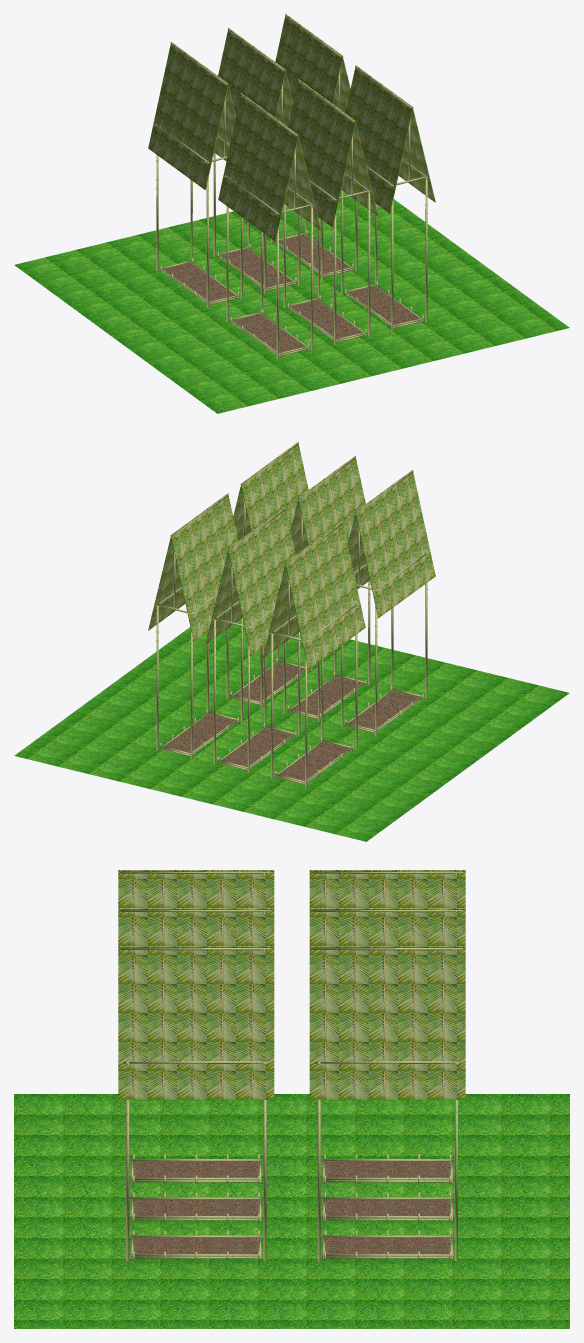
The model's file is 2Vegetable _plot.glb.
3 views of the same model, one above another, from view 1: azimuth 30°, elevation 25°; view 2: azimuth 150°, elevation 25°; view 3: azimuth 270°, elevation 25° (orthographic). The views are drawn at different scales.
Parts seen in each view (by area): view 1: Grass, Roof, Roof.003, Roof.001, Roof.002, Roof.005, Roof.004, Soil, Soil.003, Soil.002, Soil.001, BarkChips (+7 smaller); view 2: Grass, Roof.003, Roof, Roof.005, Roof.004, Roof.002, Roof.001, Soil.003, Soil, Soil.005, Soil.004, BarkChips.003 (+7 smaller); view 3: Grass, Roof.002, Roof.005, Roof, Roof.003, Roof.001, Roof.004, Soil.004, Soil.001, Soil.005, Soil.002, Soil.003 (+10 smaller).
Part boxes in pixels (x1,y1,x2,y2): Grass: (14,191,569,413); Roof: (218,93,320,241); Roof.003: (148,42,235,190); Roof.001: (288,79,378,227); Roof.002: (345,65,435,213); Roof.005: (275,14,350,112); Roof.004: (218,28,293,126); Soil: (234,313,304,352); Soil.003: (164,262,234,301); Soil.002: (348,285,418,324); Soil.001: (291,299,361,338); BarkChips: (235,314,305,352); Grass: (14,619,569,841); Roof.003: (263,521,365,669); Roof: (348,470,435,618); Roof.005: (148,493,238,641); Roof.004: (205,507,295,655); Roof.002: (233,442,308,540); Roof.001: (290,456,365,554); Soil.003: (279,742,349,780); Soil: (349,690,419,729); Soil.005: (164,714,235,752); Soil.004: (222,728,292,766); BarkChips.003: (279,741,348,780); Grass: (14,1094,569,1328); Roof.002: (118,946,274,1099); Roof.005: (309,946,465,1099); Roof: (118,870,274,908); Roof.003: (309,870,465,908); Roof.001: (118,908,274,946); Roof.004: (309,908,465,946); Soil.004: (325,1199,450,1218); Soil.001: (133,1199,258,1218); Soil.005: (325,1237,450,1253); Soil.002: (133,1237,258,1253); Soil.003: (325,1161,450,1177).
Size of the model in its own units: 28.22 by 17.15 by 28.22.
7 materials, 3 textured.
